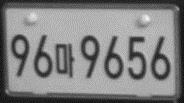5: (127, 35, 147, 80)
6: (149, 35, 171, 81), (102, 35, 123, 79), (32, 34, 52, 79)
9: (79, 34, 101, 79), (9, 33, 30, 77)
마: (53, 42, 75, 78)
